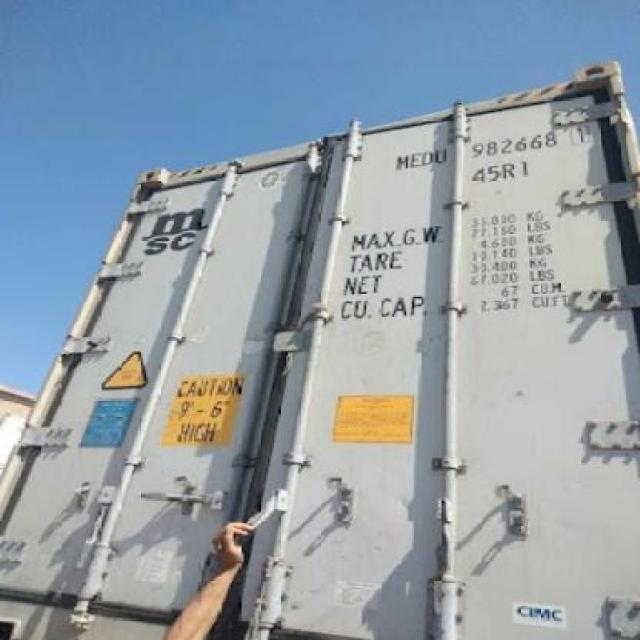ISO: (470, 160, 530, 182)
container_number: (391, 121, 592, 170)
